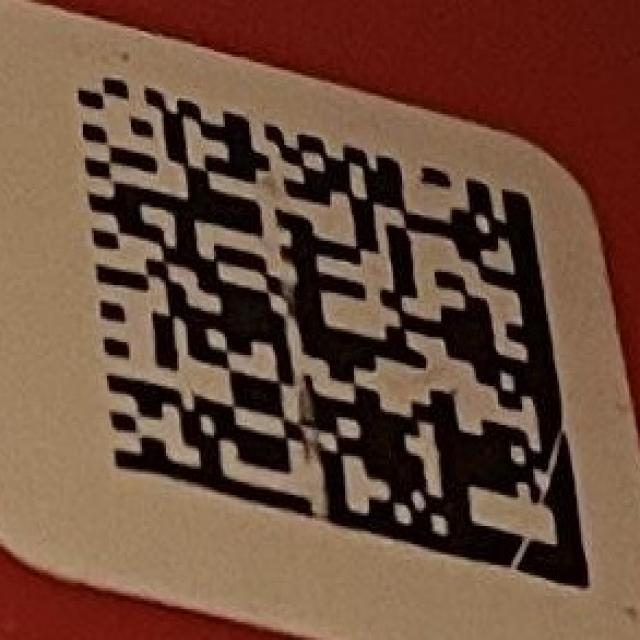QR_CODE: (77, 74, 590, 592)
